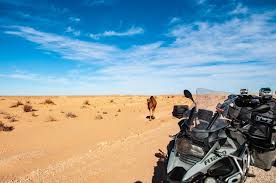motorcycle: (152, 89, 276, 183)
